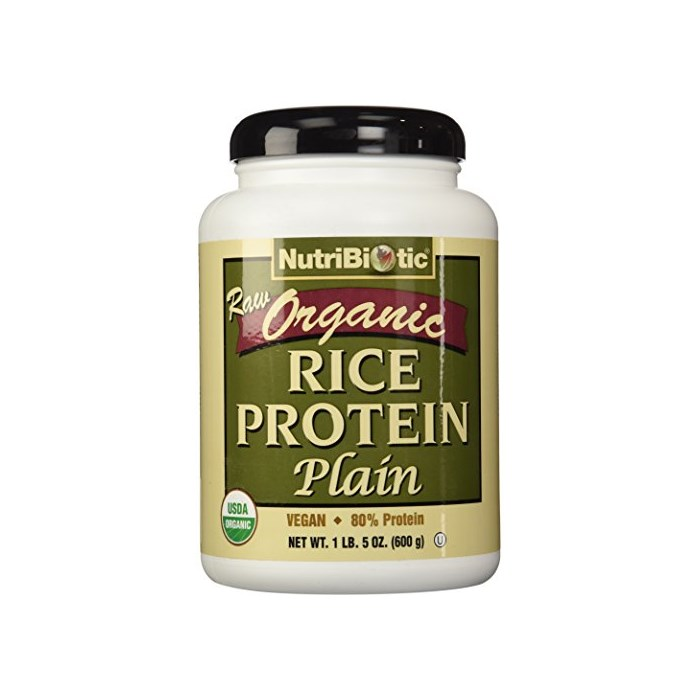glass of milk: (213, 171, 467, 241)
